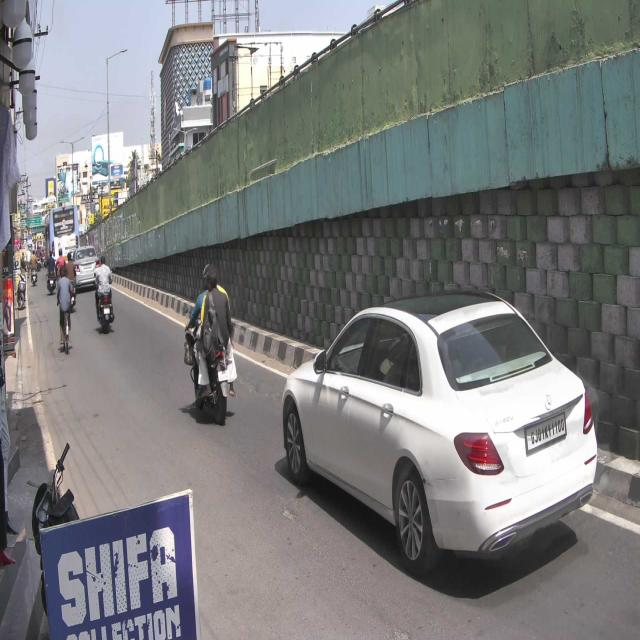triple_rider: (183, 261, 240, 423)
